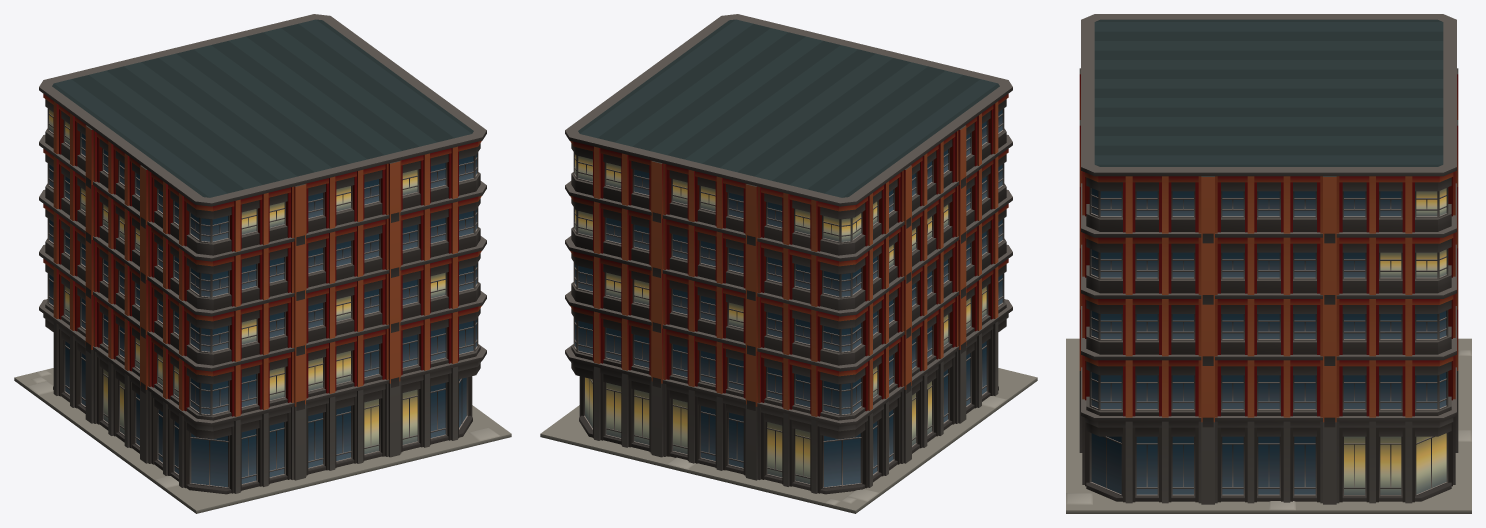
File: Building_14B.fbx
3 views of the same model, side by side, from view 1: azimuth 30°, elevation 25°; view 2: azimuth 150°, elevation 25°; view 3: azimuth 270°, elevation 25° (orthographic). The views are drawn at different scales.
Visible parts, largest first — view 1: Building_14B, Window_Lights_14B; view 2: Building_14B, Window_Lights_14B; view 3: Building_14B, Window_Lights_14B.
Part boxes in pixels (x1=…): Building_14B: x1=14, y1=14, x2=511, y2=513; Window_Lights_14B: x1=49, y1=109, x2=445, y2=454; Building_14B: x1=540, y1=14, x2=1037, y2=513; Window_Lights_14B: x1=575, y1=154, x2=986, y2=483; Building_14B: x1=1066, y1=14, x2=1471, y2=513; Window_Lights_14B: x1=1344, y1=188, x2=1446, y2=494.
Bounding box in the file's own units: 3000 × 2730 × 3000.
